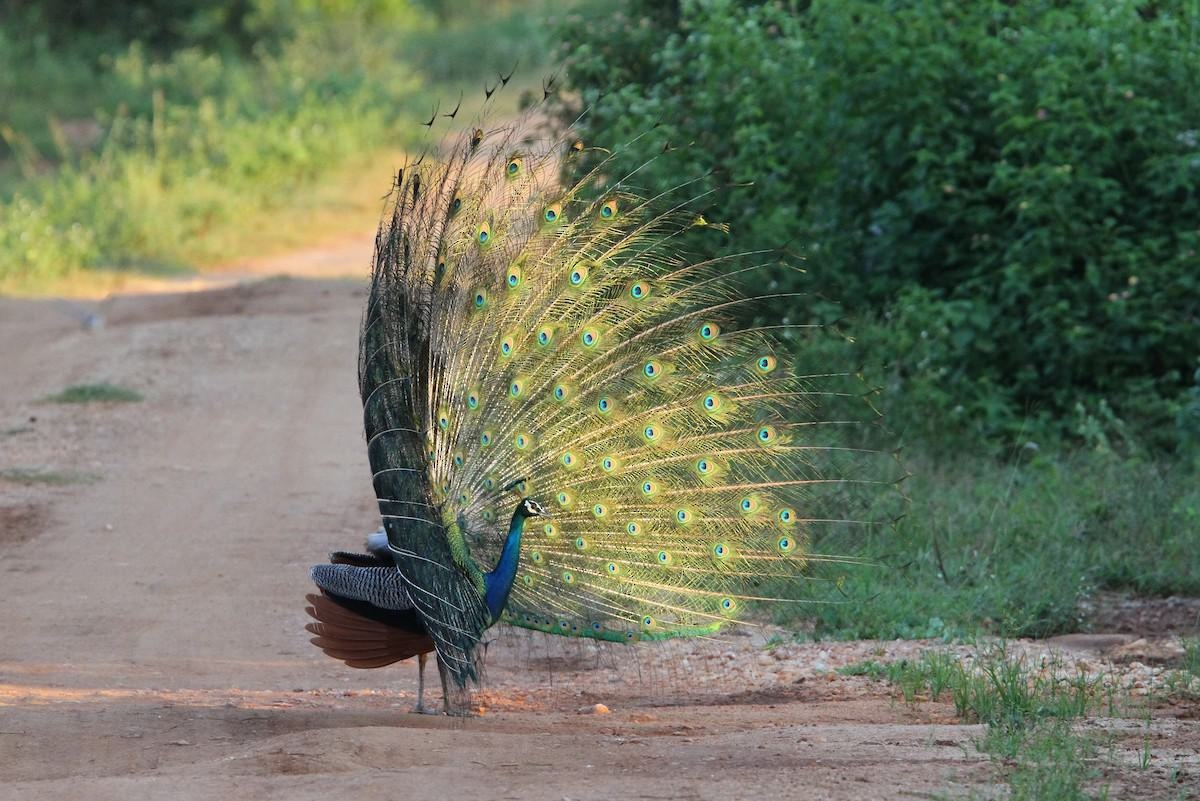peacock: (293, 111, 855, 801)
